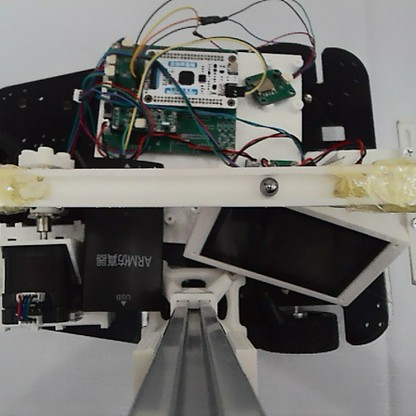ironball: (256, 174, 280, 198)
